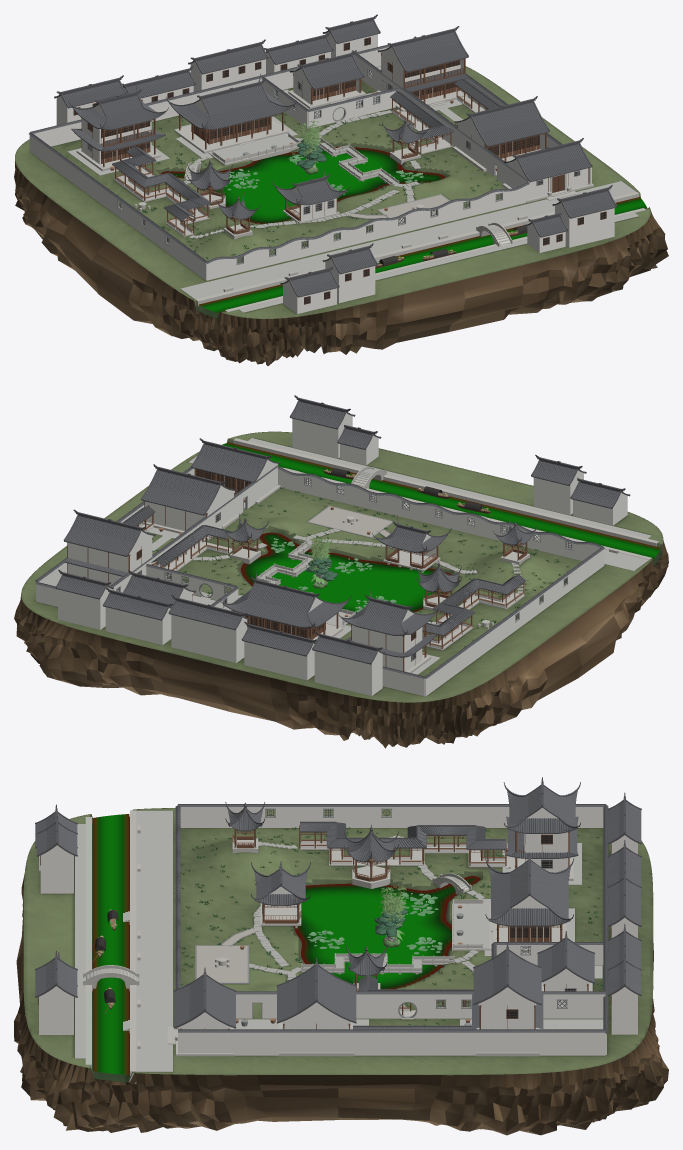
3 renders of one model, top to bottom at view 1: azimuth 30°, elevation 25°; view 2: azimuth 150°, elevation 25°; view 3: azimuth 270°, elevation 25°, orthographic. The views are drawn at different scales.
Visible parts, largest first — view 1: Island, Water, Paving, WallSouth, MainHall, RearTower, Tower, Canal, GreatHall, WallWest, WestCorridor, GateHall (+26 smaller); view 2: Island, Water, WallSouth, Canal, RearTower, MainHall, Tower, GreatHall, WallWest, Neighbor.002, Neighbor, WestCorridor (+23 smaller); view 3: Island, Water, Paving, WallEast, WallWest, Canal, MainHall, WallPart, Tower, WestCorridor, RearTower, GreatHall (+25 smaller).
Part boxes in pixels (box(x1,y1,x2,y2)): Island: box(14, 66, 668, 365); Water: box(161, 146, 646, 313); Paving: box(67, 66, 635, 299); WallSouth: box(206, 182, 529, 280); MainHall: box(166, 74, 296, 153); RearTower: box(376, 26, 468, 111); Tower: box(68, 84, 168, 171); Canal: box(195, 192, 645, 312); GreatHall: box(452, 96, 549, 171); WallWest: box(29, 132, 206, 280); WestCorridor: box(112, 145, 211, 236); GateHall: box(502, 138, 593, 202); Island: box(14, 431, 668, 748); Water: box(222, 442, 660, 613); WallSouth: box(277, 466, 602, 560); Canal: box(233, 438, 658, 559); RearTower: box(63, 509, 155, 591); MainHall: box(219, 571, 351, 639); Tower: box(338, 590, 439, 672); GreatHall: box(141, 464, 238, 540); WallWest: box(425, 546, 604, 696); Neighbor.002: box(168, 595, 249, 662); Neighbor: box(312, 631, 385, 695); WestCorridor: box(422, 574, 525, 650); Island: box(14, 808, 668, 1135); Water: box(93, 814, 480, 1075); Paving: box(136, 810, 603, 1071); WallEast: box(178, 1029, 605, 1055); WallWest: box(178, 804, 605, 827); Canal: box(75, 810, 140, 1083); MainHall: box(485, 852, 573, 952); WallPart: box(234, 991, 605, 1019); Tower: box(503, 777, 580, 880); WestCorridor: box(299, 821, 506, 867); RearTower: box(472, 942, 543, 1056); GreatHall: box(276, 957, 356, 1056).
Bounding box in the file's own units: 82.99 × 24.53 × 82.69.
